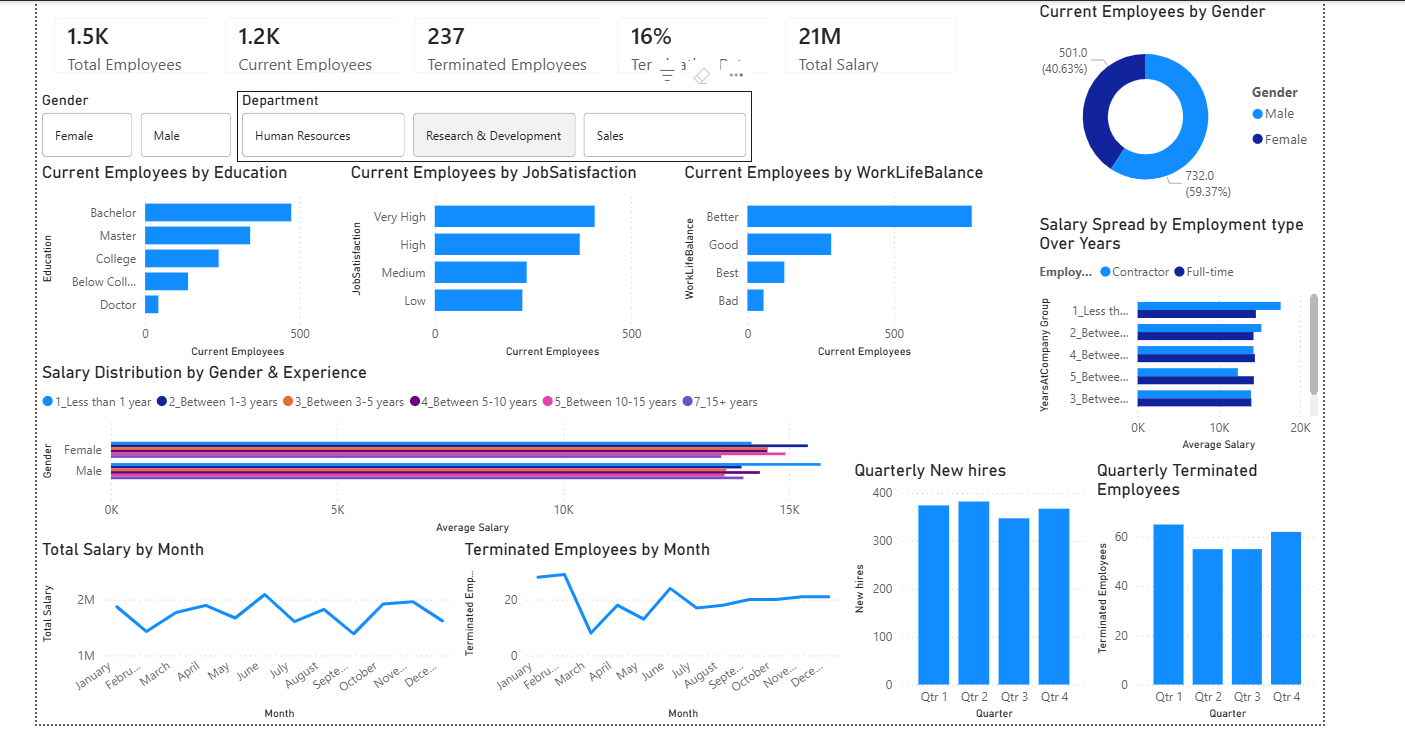

Layout of this report page (visuals, bound fields, positions):
{"tool":"powerbi","page":{"name":"Page 2","canvas":[1280,720],"ordinal":1},"visuals":[{"type":"cardVisual","fields":{"Data":["Dataset.Total Employees"]},"box":[0,0,199,89.6],"z":0},{"type":"cardVisual","fields":{"Data":["Dataset.Current Employees"]},"box":[170.4,0,215.2,89.6],"z":1000},{"type":"cardVisual","fields":{"Data":["Dataset.Terminated Employees"]},"box":[375.7,0,236.4,89.6],"z":2000},{"type":"cardVisual","fields":{"Data":["Dataset.Termination Rate"]},"box":[594.6,0,187.8,89.6],"z":3000},{"type":"cardVisual","fields":{"Data":["Dataset.Total Salary"]},"box":[763.8,0,205.3,89.6],"z":4000},{"type":"donutChart","fields":{"Category":["Dataset.Gender"],"Y":["Dataset.Current Employees"]},"box":[992.7,0,287.4,211.5],"z":5000},{"type":"clusteredBarChart","fields":{"Y":["Dataset.Current Employees"],"Category":["Dataset.Education"]},"box":[0,160.5,307.3,199],"z":6000},{"type":"clusteredBarChart","fields":{"Category":["Dataset.JobSatisfaction"],"Y":["Dataset.Current Employees"]},"box":[307.3,160.5,338.4,199],"z":7000},{"type":"barChart","fields":{"Category":["Dataset.WorkLifeBalance"],"Y":["Dataset.Current Employees"]},"box":[639.4,160.5,316,199],"z":8000},{"type":"clusteredColumnChart","title":"Quarterly New hires","fields":{"Y":["Dataset.Total Employees"],"Category":["Dataset.DateStart.Variation.Date Hierarchy.Quarter"]},"box":[808.6,456.5,241.3,263.7],"z":9000},{"type":"columnChart","title":"Quarterly Terminated Employees","fields":{"Y":["Dataset.Terminated Employees"],"Category":["Dataset.DateDeparture.Variation.Date Hierarchy.Quarter"]},"box":[1049.9,456.5,230.1,263.7],"z":10000},{"type":"lineChart","fields":{"Category":["Dataset.DateDeparture.Variation.Date Hierarchy.Month"],"Y":["Dataset.Terminated Employees"]},"box":[420.5,534.9,383.1,185.3],"z":11000},{"type":"lineChart","fields":{"Category":["Dataset.DateStart.Variation.Date Hierarchy.Month"],"Y":["Dataset.Total Salary"]},"box":[0,534.9,420.5,185.3],"z":12000},{"type":"clusteredBarChart","title":"Salary Spread by Employment type Over Years","fields":{"Series":["Dataset.EmploymentType"],"Y":["Dataset.Average Salary"],"Category":["Dataset.YearsAtCompany Group"]},"box":[992.7,211.5,287.4,241.3],"z":13000},{"type":"clusteredBarChart","title":"Salary Distribution by Gender & Experience","fields":{"Category":["Dataset.Gender"],"Y":["Dataset.Average Salary"],"Series":["Dataset.YearsAtCompany Group"]},"box":[0,359.5,808.6,175.4],"z":14000},{"type":"advancedSlicerVisual","fields":{"Values":["Dataset.Gender"]},"box":[0,89.6,199,70.9],"z":15000},{"type":"advancedSlicerVisual","fields":{"Values":["Dataset.Department"]},"box":[199,89.6,512.5,70.9],"z":16000}]}

Visuals, with their boxes on the page's 1280x720 design canvas (x1, y1, x2, y2). These are canvas units, not pixel positions in the 1405x731 screenshot, which may show the page scaled, cropped or inside an application window:
cardVisual - Dataset.Total Employees: 0/0/199/90
cardVisual - Dataset.Current Employees: 170/0/386/90
cardVisual - Dataset.Terminated Employees: 376/0/612/90
cardVisual - Dataset.Termination Rate: 595/0/782/90
cardVisual - Dataset.Total Salary: 764/0/969/90
donutChart - Dataset.Gender x Dataset.Current Employees: 993/0/1280/212
clusteredBarChart - Dataset.Current Employees x Dataset.Education: 0/160/307/360
clusteredBarChart - Dataset.JobSatisfaction x Dataset.Current Employees: 307/160/646/360
barChart - Dataset.WorkLifeBalance x Dataset.Current Employees: 639/160/955/360
"Quarterly New hires" clusteredColumnChart: 809/456/1050/720
"Quarterly Terminated Employees" columnChart: 1050/456/1280/720
lineChart - Dataset.DateDeparture.Variation.Date Hierarchy.Month x Dataset.Terminated Employees: 420/535/804/720
lineChart - Dataset.DateStart.Variation.Date Hierarchy.Month x Dataset.Total Salary: 0/535/420/720
"Salary Spread by Employment type Over Years" clusteredBarChart: 993/212/1280/453
"Salary Distribution by Gender & Experience" clusteredBarChart: 0/360/809/535
advancedSlicerVisual - Dataset.Gender: 0/90/199/160
advancedSlicerVisual - Dataset.Department: 199/90/712/160
